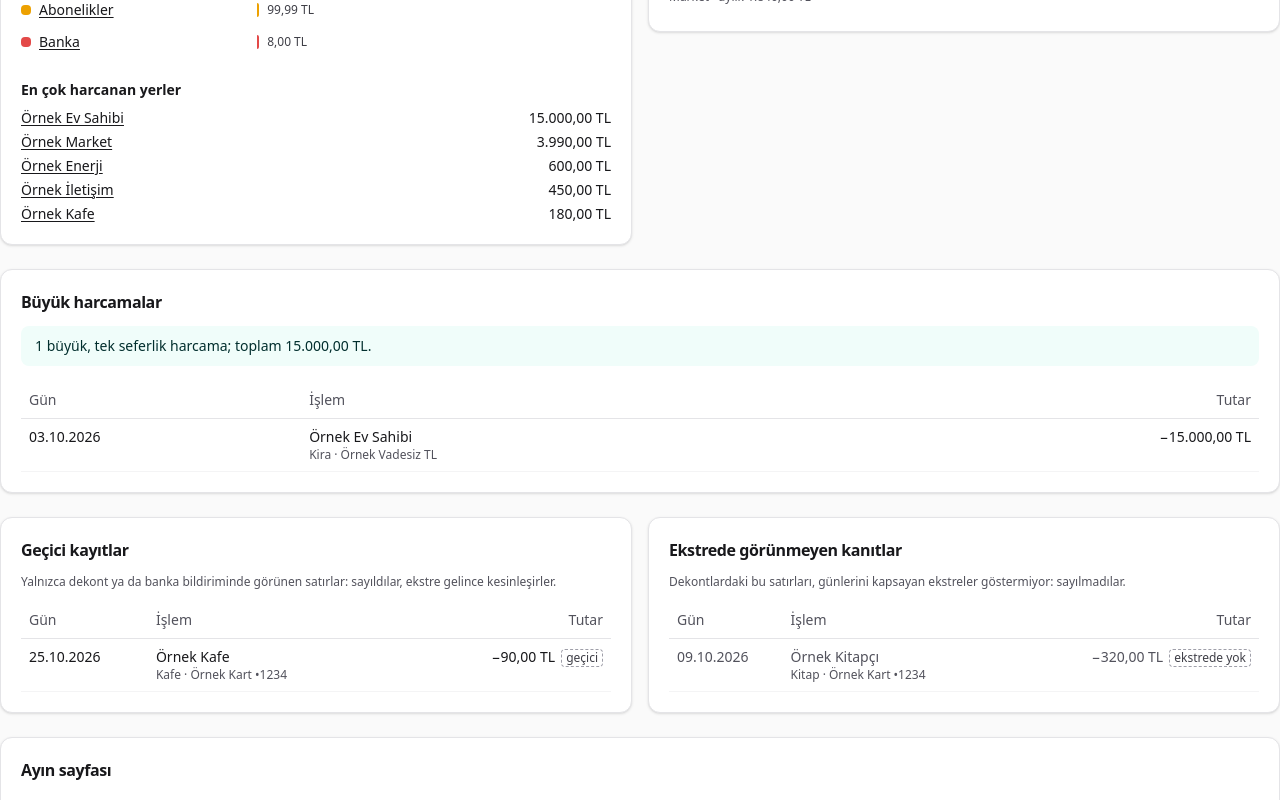
MonthPage: where the money went and the rows › opens a big purchase's detail at the side
(page scrolled)
Expected: the text "1 büyük, tek seferlik harcama; toplam 15.000,00 TL." is shown, top-left (35, 336), bottom-right (371, 356)
Click the link "Örnek Ev Sahibi" in the row of "03.10.2026". click: (361, 436)
box: top-left (309, 427), bottom-right (412, 446)
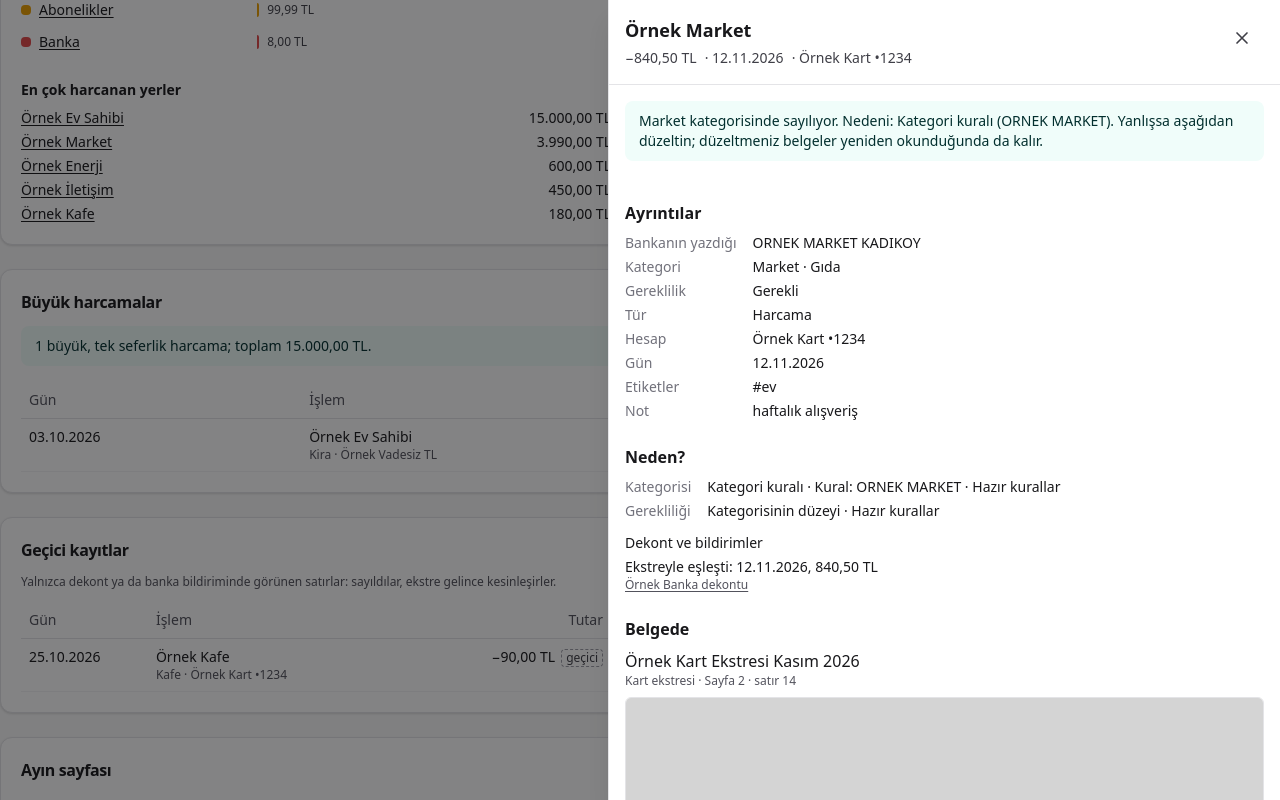
Now the dialog is shown, box top-left (608, 0), bottom-right (1279, 799)
